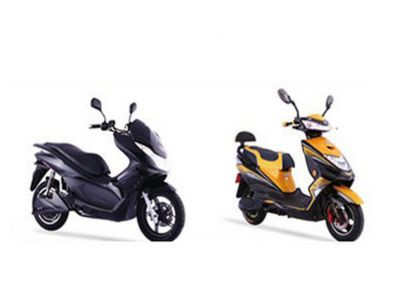non-vehicle: (28, 98, 186, 245), (219, 85, 363, 243)
